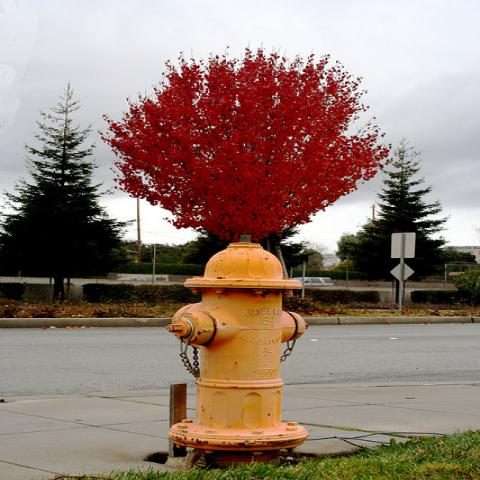car: (292, 277, 335, 286)
